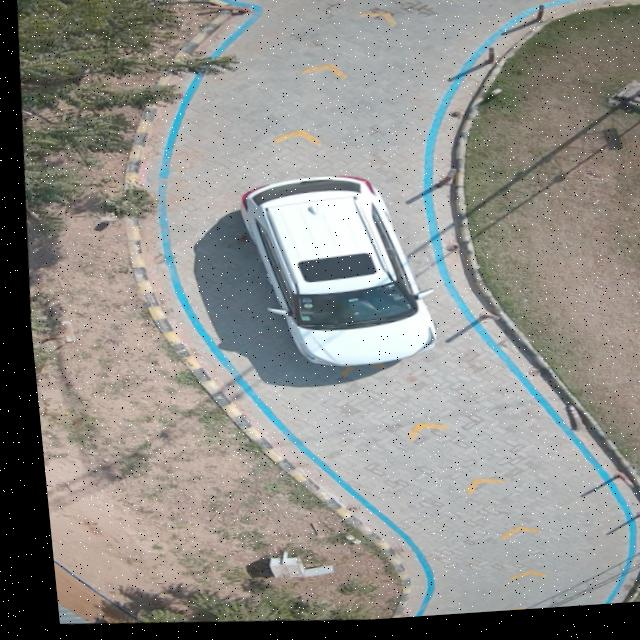car: (238, 181, 430, 371)
